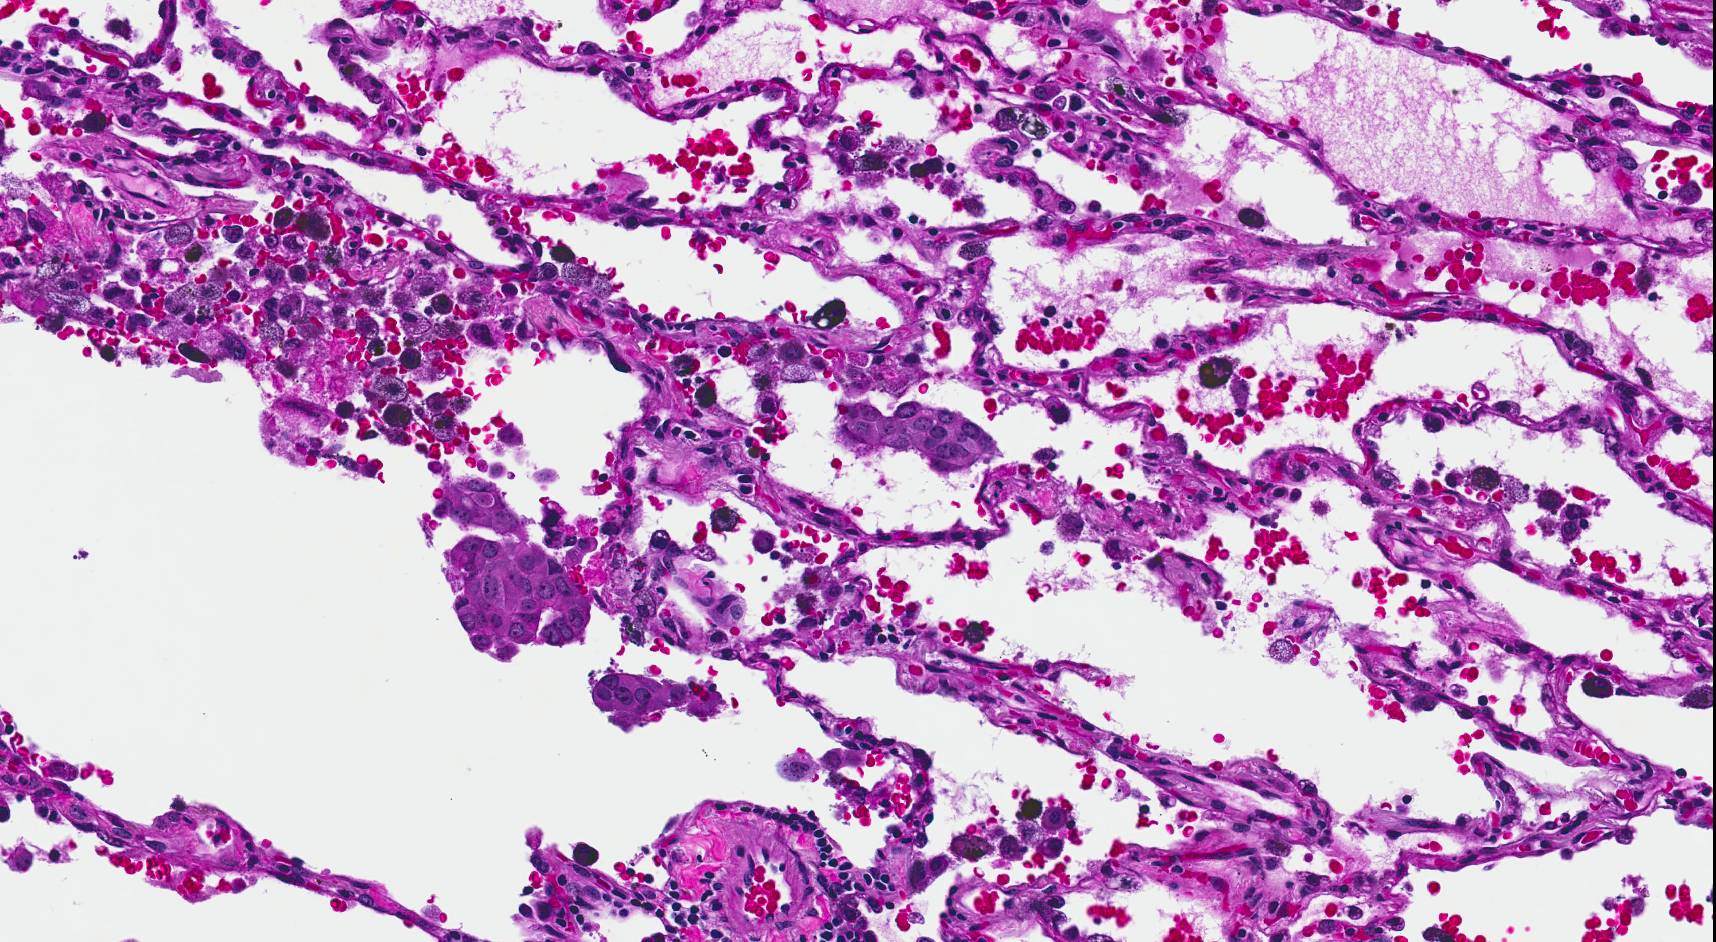stas: (445, 535, 591, 662), (835, 400, 1002, 471), (587, 671, 725, 732), (433, 478, 531, 543)
